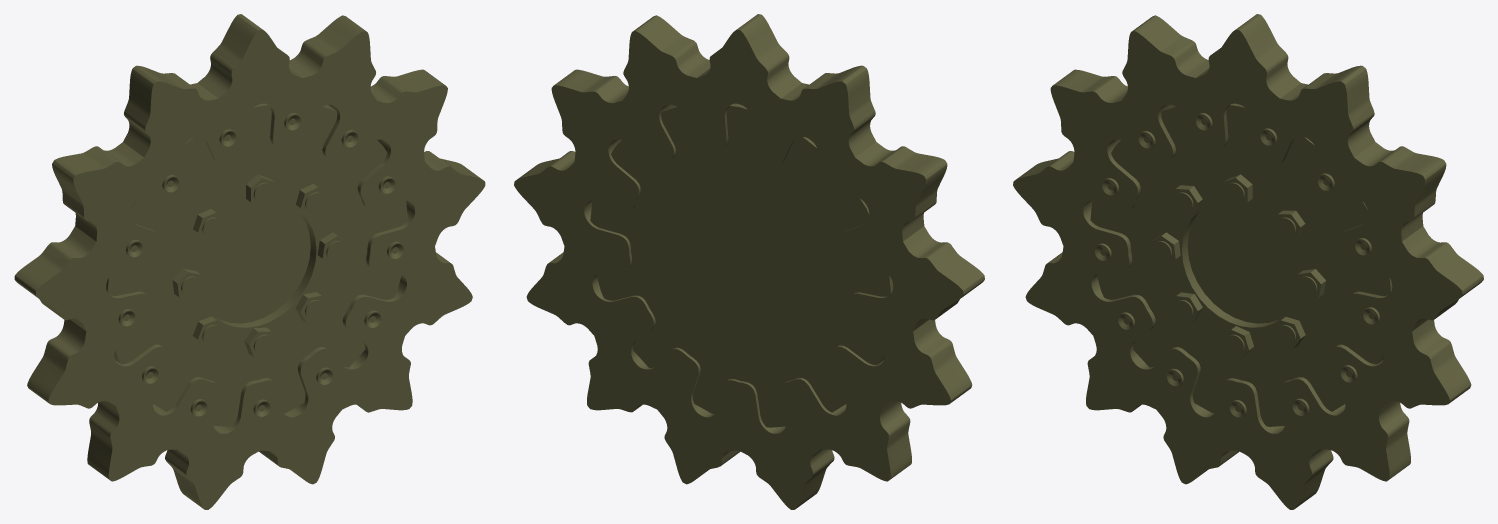
The model's file is Sprocket.glb.
3 views of the same model, side by side, from view 1: azimuth 30°, elevation 25°; view 2: azimuth 150°, elevation 25°; view 3: azimuth 330°, elevation 25° (orthographic).
Visible parts, largest first — view 1: Teeth, Wheel, Nuts, Bolts; view 2: Teeth, Wheel; view 3: Teeth, Wheel, Nuts, Bolts.
Boxes of the visible parts, box(x1,y1,x2,y2) form: Teeth: box(14, 14, 485, 509); Wheel: box(106, 103, 407, 426); Nuts: box(172, 174, 348, 357); Bolts: box(118, 113, 404, 417); Teeth: box(514, 14, 984, 509); Wheel: box(590, 103, 893, 427); Teeth: box(1013, 14, 1483, 509); Wheel: box(1090, 103, 1392, 426); Nuts: box(1150, 174, 1325, 358); Bolts: box(1094, 113, 1379, 418).
Size of the model in its own units: 4.46 by 4.42 by 0.4208.
